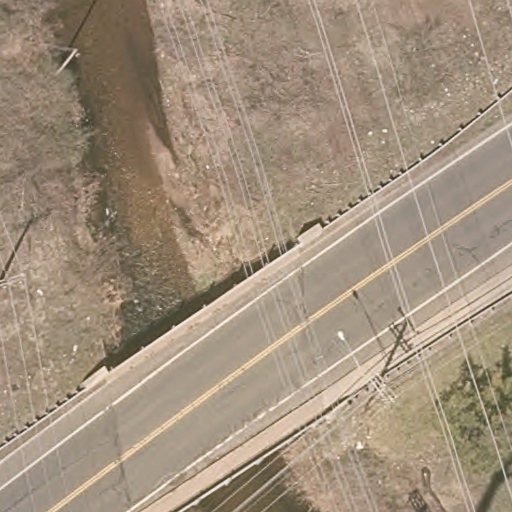DT: (361, 373, 397, 414)
